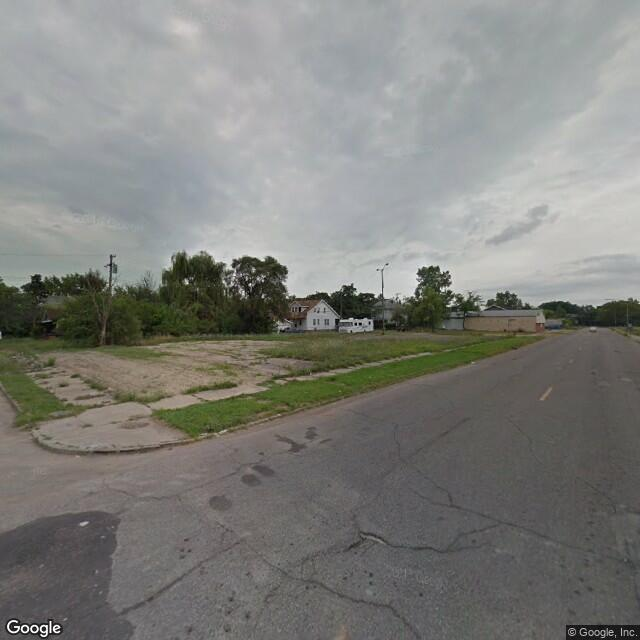litter: (366, 373, 372, 379), (469, 360, 479, 362)
